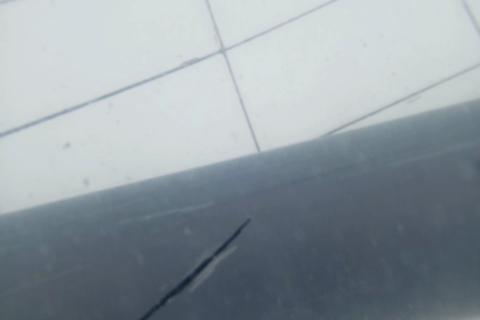keretakan: (138, 215, 251, 320)
